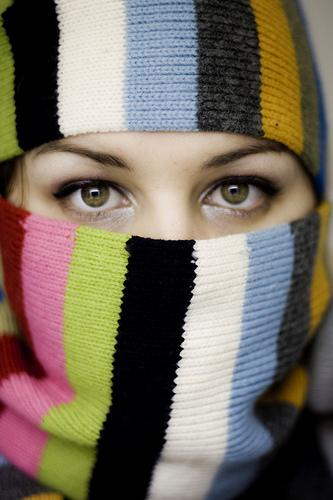OK: (14, 95, 310, 391)
